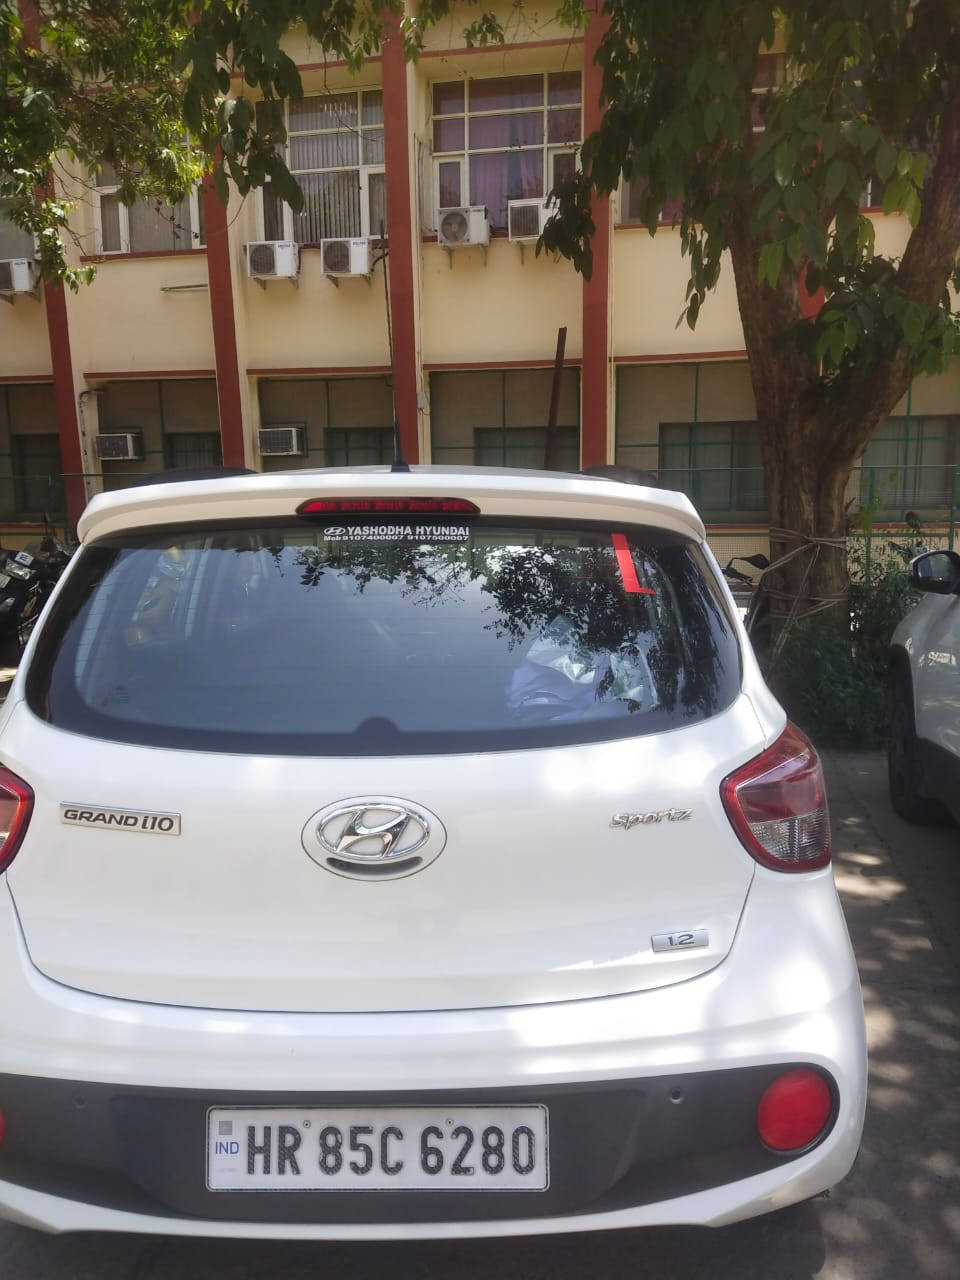license plate: (207, 1105, 547, 1190)
